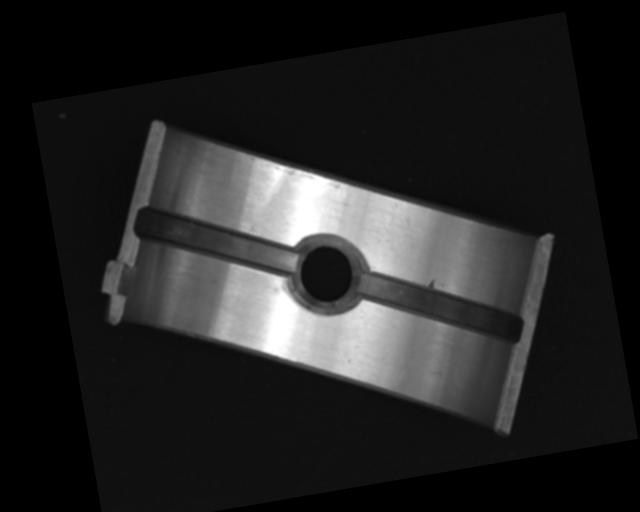bruise: (424, 276, 437, 289)
gap: (358, 247, 524, 366), (133, 183, 300, 297)
hole: (287, 230, 367, 316)
